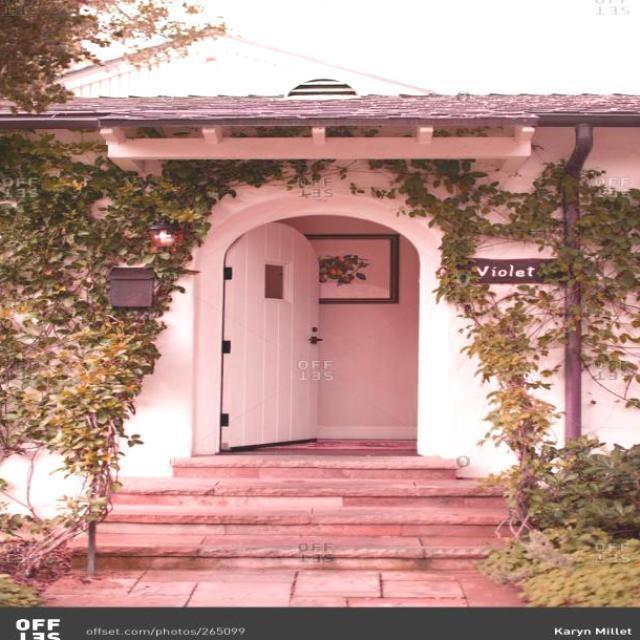door: (219, 220, 320, 450)
